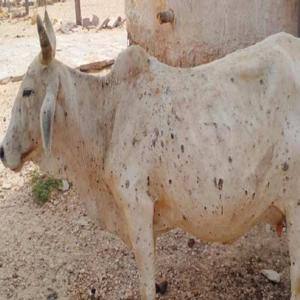lumpy skin diesease: (0, 8, 299, 299)
